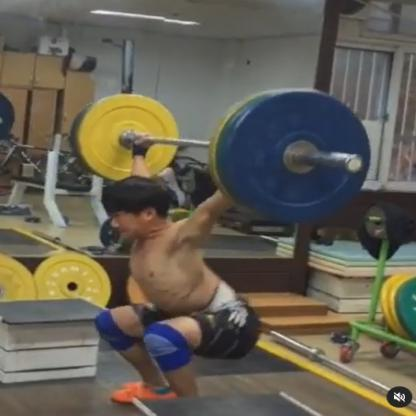barbell: (74, 92, 371, 220)
